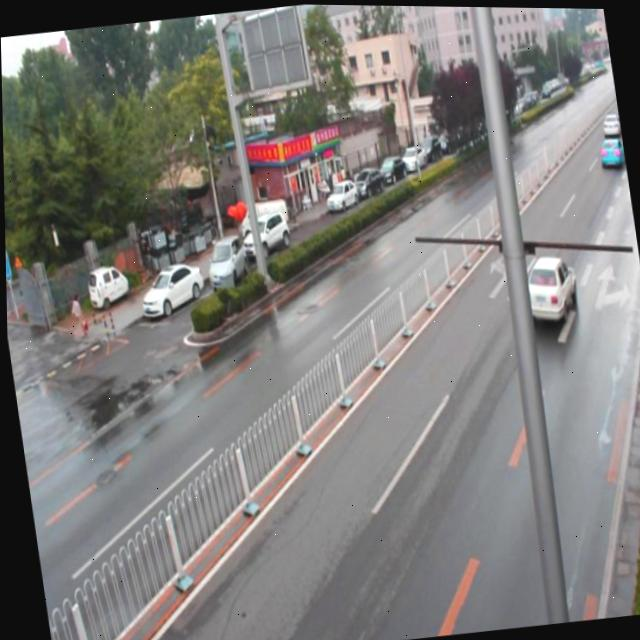car: (516, 246, 577, 324), (593, 132, 623, 168)
